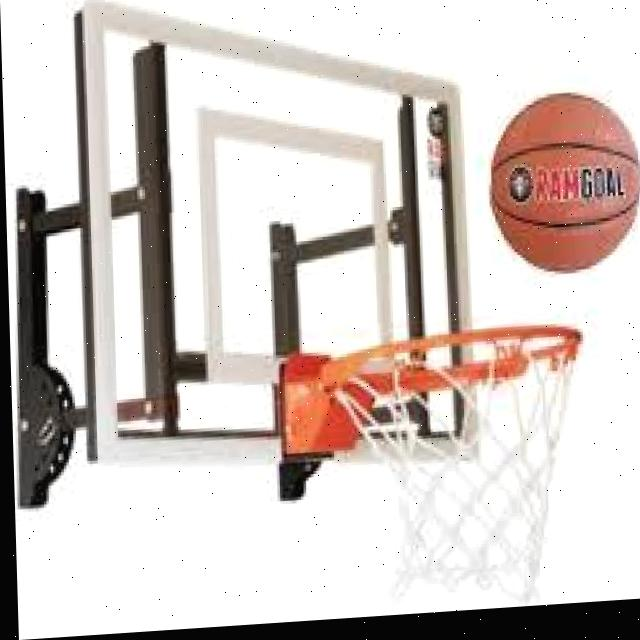Basketball: (487, 83, 640, 274)
